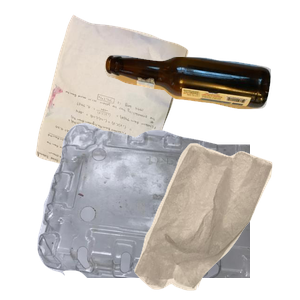glass: (101, 52, 300, 154)
paper: (33, 12, 214, 192)
plastic: (35, 120, 275, 300)
trash: (132, 140, 300, 300)
